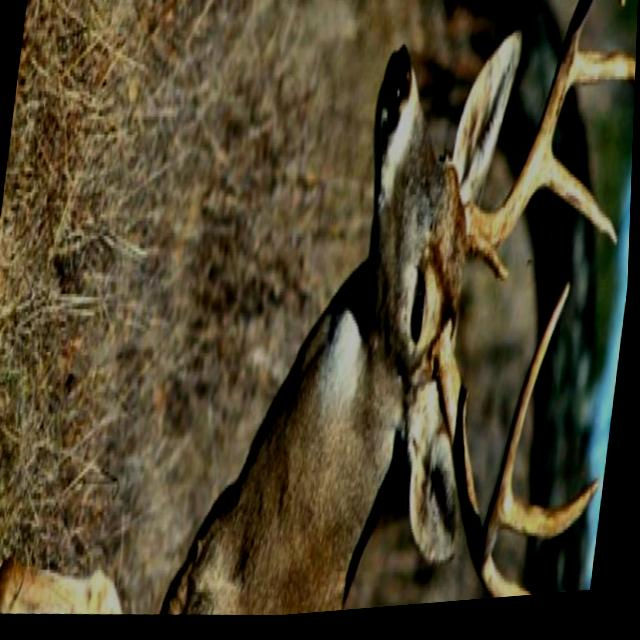L-F: (432, 283, 575, 579)
L-G1: (480, 561, 546, 607)
L-G2: (503, 483, 605, 551)
R-G1: (467, 240, 512, 291)
R-G2: (535, 146, 621, 259)
R-G3: (567, 57, 637, 103)
